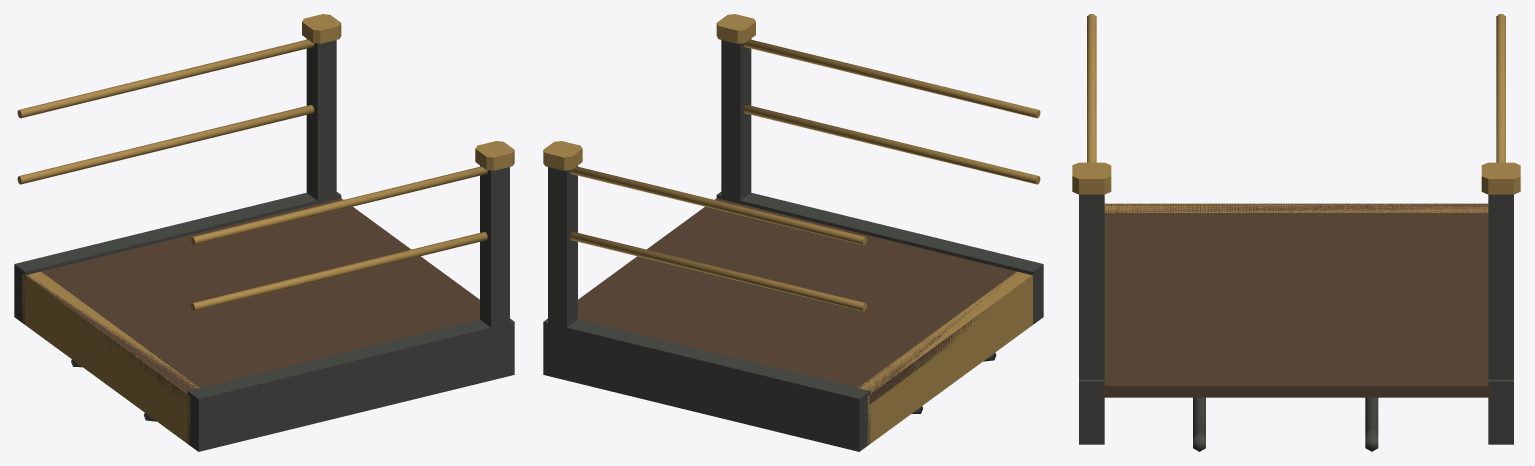
File: b1_walkway.glb
3 views of the same model, side by side, from view 1: azimuth 30°, elevation 25°; view 2: azimuth 150°, elevation 25°; view 3: azimuth 270°, elevation 25° (orthographic). The views are drawn at different scales.
Visible parts, largest first — view 1: b1_walkway; view 2: b1_walkway; view 3: b1_walkway.
Part boxes in pixels (bbox=[...]): b1_walkway: bbox=[14, 14, 514, 451]; b1_walkway: bbox=[543, 14, 1043, 451]; b1_walkway: bbox=[1072, 14, 1520, 451].
Size of the model in its own units: 2.02 by 1.61 by 2.08.
